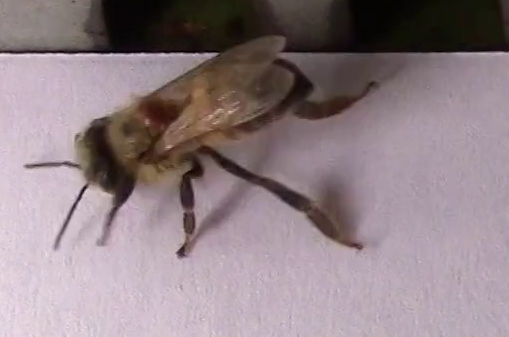Varroa destructor: (136, 97, 185, 133)
